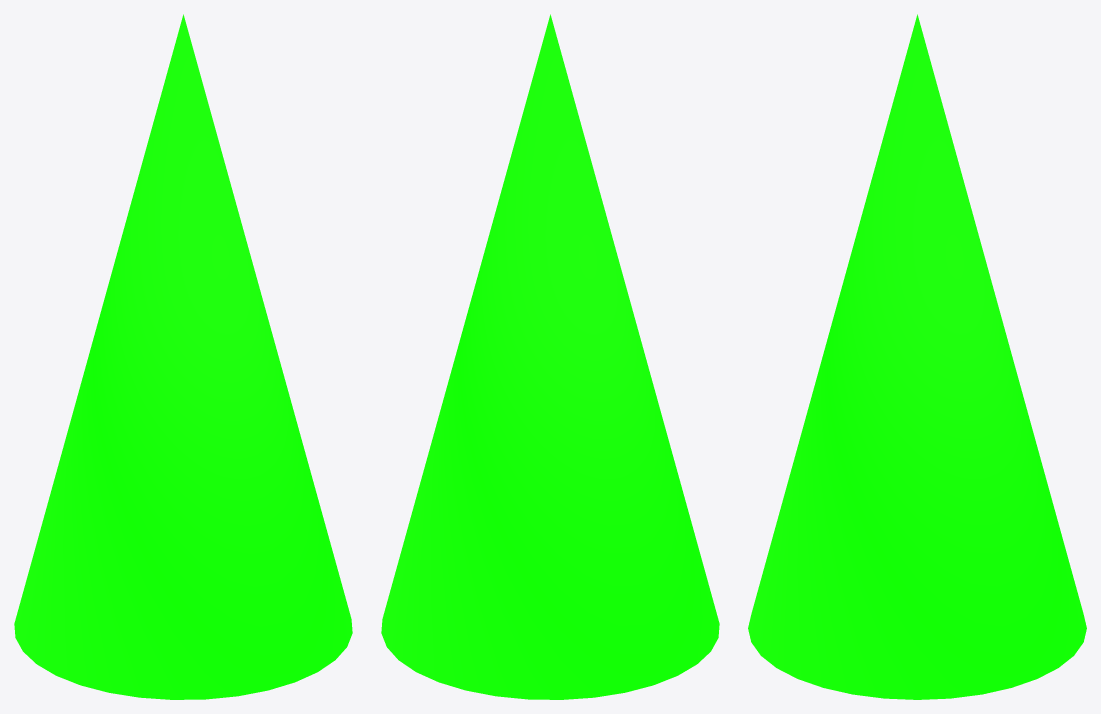
File: ramptest.fbx
3 views of the same model, side by side, from view 1: azimuth 30°, elevation 25°; view 2: azimuth 150°, elevation 25°; view 3: azimuth 270°, elevation 25° (orthographic).
Parts seen in each view (by area): view 1: Cone; view 2: Cone; view 3: Cone.
Part boxes in pixels (left/top/right/bottom): Cone: left=14, top=14, right=352, bottom=699; Cone: left=381, top=14, right=719, bottom=699; Cone: left=748, top=14, right=1086, bottom=699.
Size of the model in its own units: 200 by 400 by 200.
